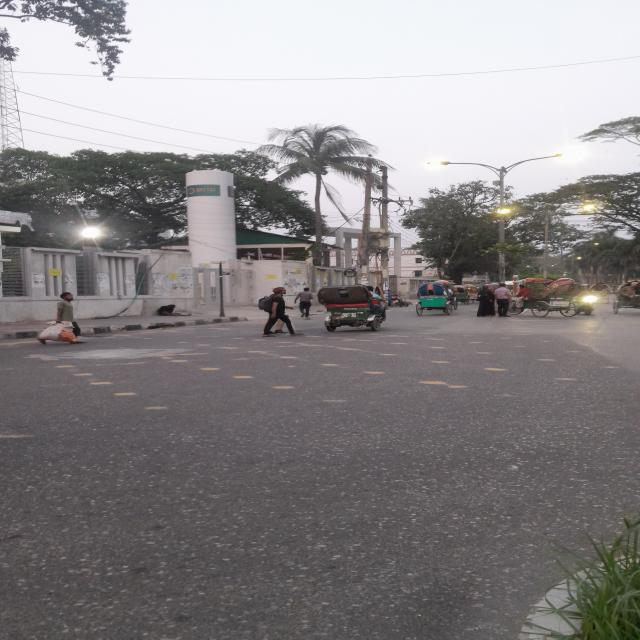person: (476, 285, 496, 317), (494, 283, 512, 317)
